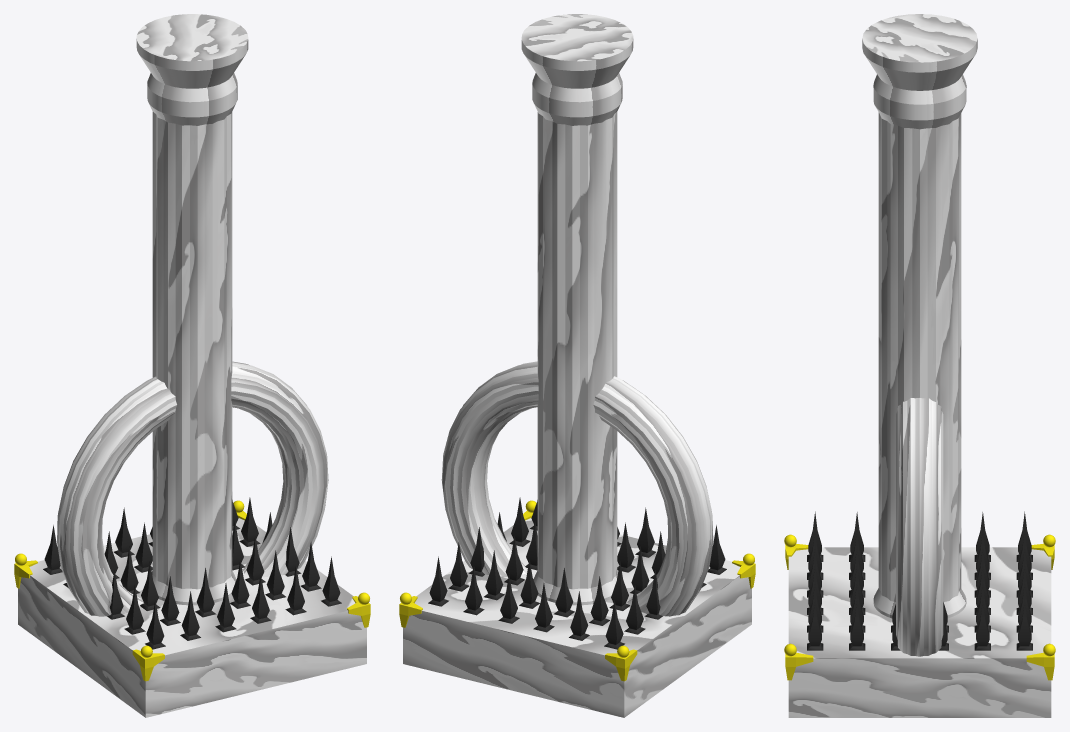
Rendered from blocks.fbx.
The picture shows the model from 3 angles, left to right: view 1: azimuth 30°, elevation 25°; view 2: azimuth 150°, elevation 25°; view 3: azimuth 270°, elevation 25°; orthographic projection. The views are drawn at different scales.
Visible parts, largest first — view 1: Column, Cube, CircleColumn, Thorns, Corners; view 2: Column, Cube, CircleColumn, Thorns, Corners; view 3: Column, Cube, CircleColumn, Thorns, Corners.
Boxes of the visible parts, x1,y1,x2,y2 form: Column: [136, 14, 248, 605]; Cube: [18, 518, 366, 717]; CircleColumn: [57, 361, 328, 616]; Thorns: [43, 497, 341, 649]; Corners: [14, 500, 370, 681]; Column: [521, 14, 633, 605]; Cube: [403, 518, 751, 717]; CircleColumn: [441, 361, 713, 616]; Thorns: [428, 497, 726, 649]; Corners: [399, 500, 755, 681]; Column: [862, 14, 977, 618]; Cube: [788, 547, 1051, 717]; CircleColumn: [896, 398, 943, 656]; Thorns: [807, 511, 1032, 650]; Corners: [784, 534, 1055, 680].
Bounding box in the file's own units: 240 × 524 × 207.
3 materials, 1 textured.
